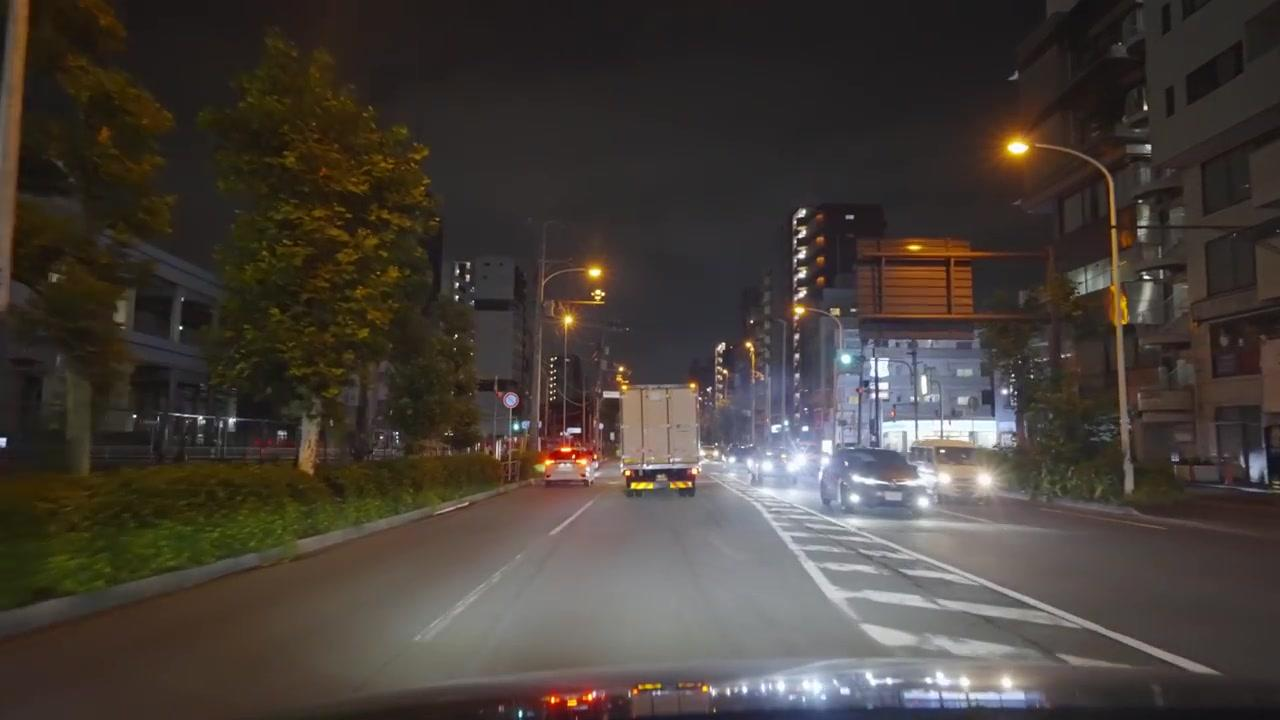car: (818, 445, 936, 516), (907, 437, 998, 509), (542, 447, 591, 486), (755, 445, 796, 486)
traffic light: (1109, 285, 1129, 325), (836, 347, 858, 372), (501, 392, 519, 410), (887, 404, 897, 419)
truck: (616, 385, 702, 497)
